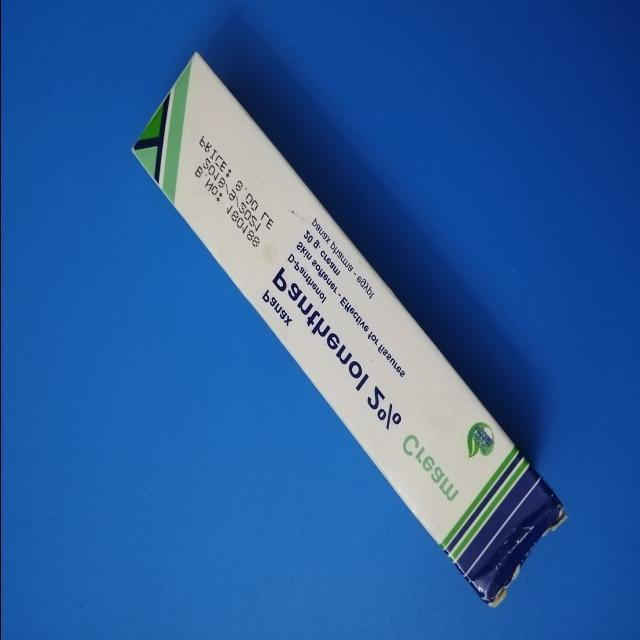Medicine Name: (266, 260, 371, 396)
